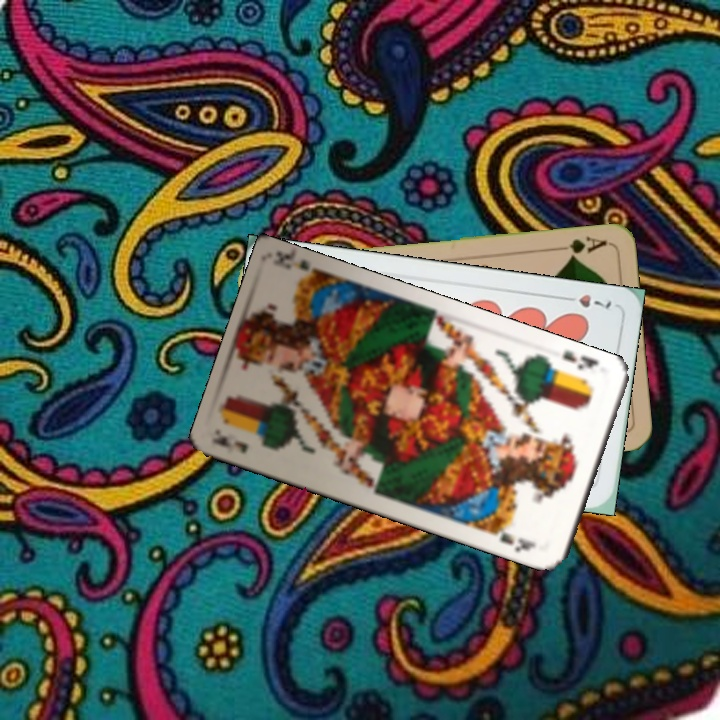EK: (558, 346, 602, 373), (213, 431, 251, 456)
GA: (551, 232, 610, 261)
H7: (558, 290, 614, 312)
